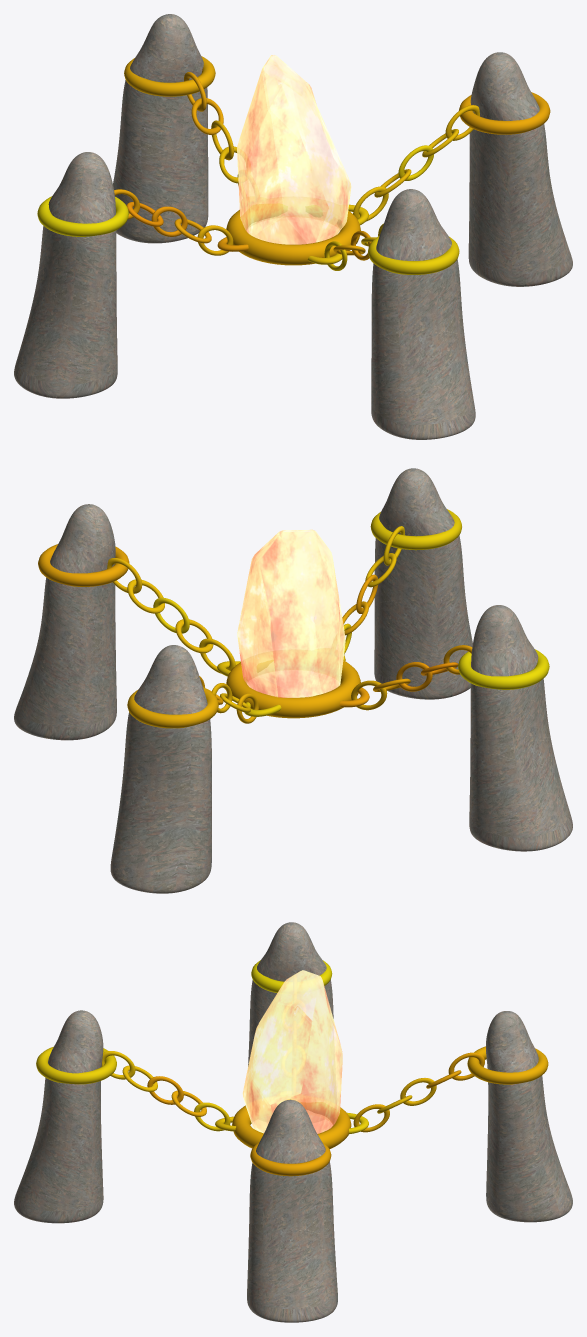
File: asset.glb
The picture shows the model from 3 angles, top to bottom: view 1: azimuth 30°, elevation 25°; view 2: azimuth 150°, elevation 25°; view 3: azimuth 270°, elevation 25°; orthographic projection. The views are drawn at different scales.
Parts seen in each view (by area): view 1: Куб.003, Куб, Куб.001, CrystalLamp, Куб.002, Тор, Тор.025, Тор.026, Тор.027, Тор.028; view 2: Куб.002, Куб, Куб.001, Куб.003, CrystalLamp, Тор, Тор.026, Тор.025, Тор.027, Тор.028; view 3: Куб.001, Куб.003, Куб.002, CrystalLamp, Куб, Тор, Тор.027, Тор.028, Тор.026, Тор.025.
Part boxes in pixels (x1,y1,x2,y2): Куб.003: (371, 189, 475, 439); Куб: (14, 152, 117, 398); Куб.001: (468, 52, 572, 286); CrystalLamp: (237, 55, 351, 244); Куб.002: (113, 14, 208, 243); Тор: (226, 203, 360, 265); Тор.025: (37, 196, 128, 236); Тор.026: (459, 92, 550, 134); Тор.027: (124, 56, 215, 96); Тор.028: (368, 236, 459, 274); Куб.002: (110, 645, 211, 893); Куб: (469, 605, 572, 851); Куб.001: (14, 504, 116, 740); Куб.003: (374, 468, 472, 699); CrystalLamp: (237, 529, 345, 697); Тор: (226, 660, 360, 718); Тор.026: (38, 544, 129, 586); Тор.025: (458, 649, 549, 689); Тор.027: (127, 687, 218, 728); Тор.028: (370, 509, 461, 550); Куб.001: (247, 1099, 337, 1322); Куб.003: (14, 1010, 103, 1223); Куб.002: (486, 1011, 572, 1222); CrystalLamp: (242, 970, 342, 1133); Куб: (248, 922, 333, 1066); Тор: (232, 1099, 351, 1148); Тор.027: (467, 1046, 548, 1084); Тор.028: (36, 1046, 116, 1084); Тор.026: (250, 1142, 331, 1176); Тор.025: (251, 960, 332, 992).
Size of the model in its own units: 184 by 83.62 by 185.
Materials: 31 (1 with a texture image).
